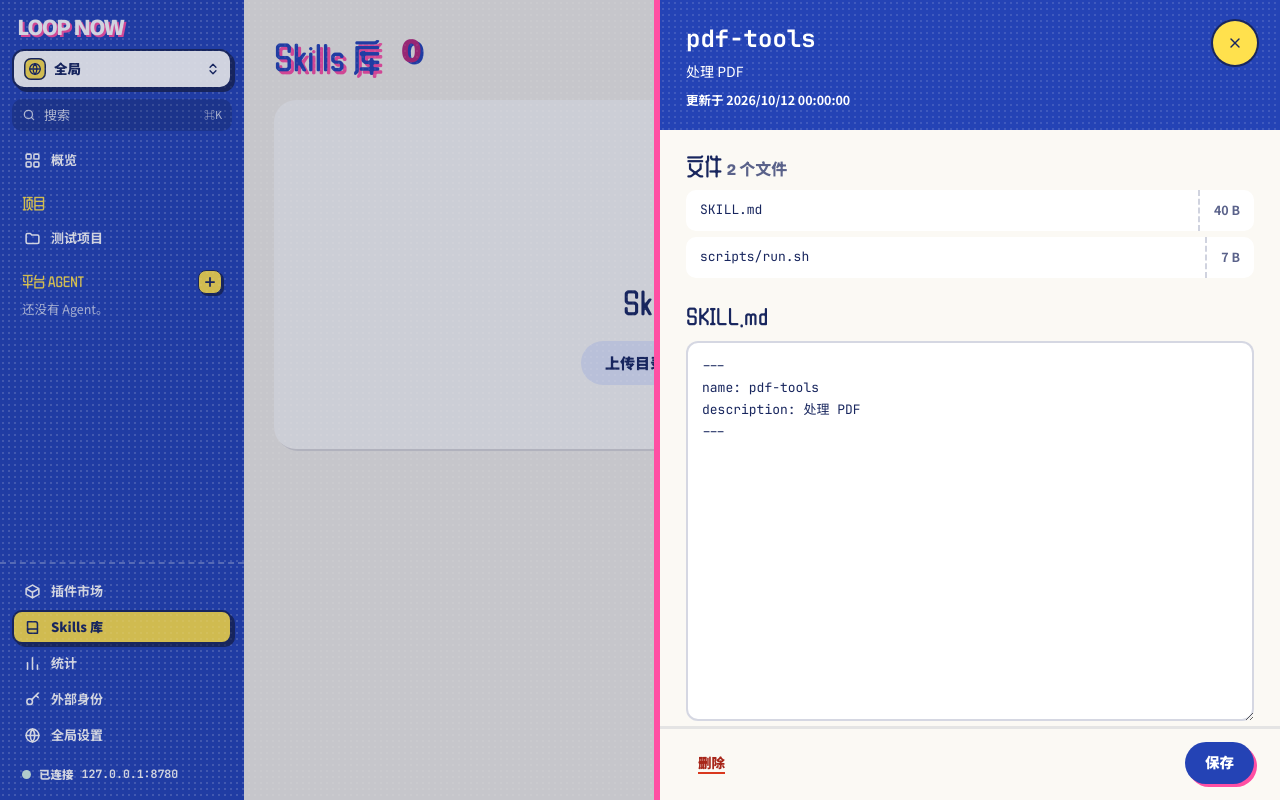
查看与编辑模板的 SKILL.md › 后台刷新失败时保留未保存的编辑，并显示原因
Type "还没保存" into the text box labelled "SKILL.md".
click(970, 531); type("还没保存")  # box [686,341,1254,721]
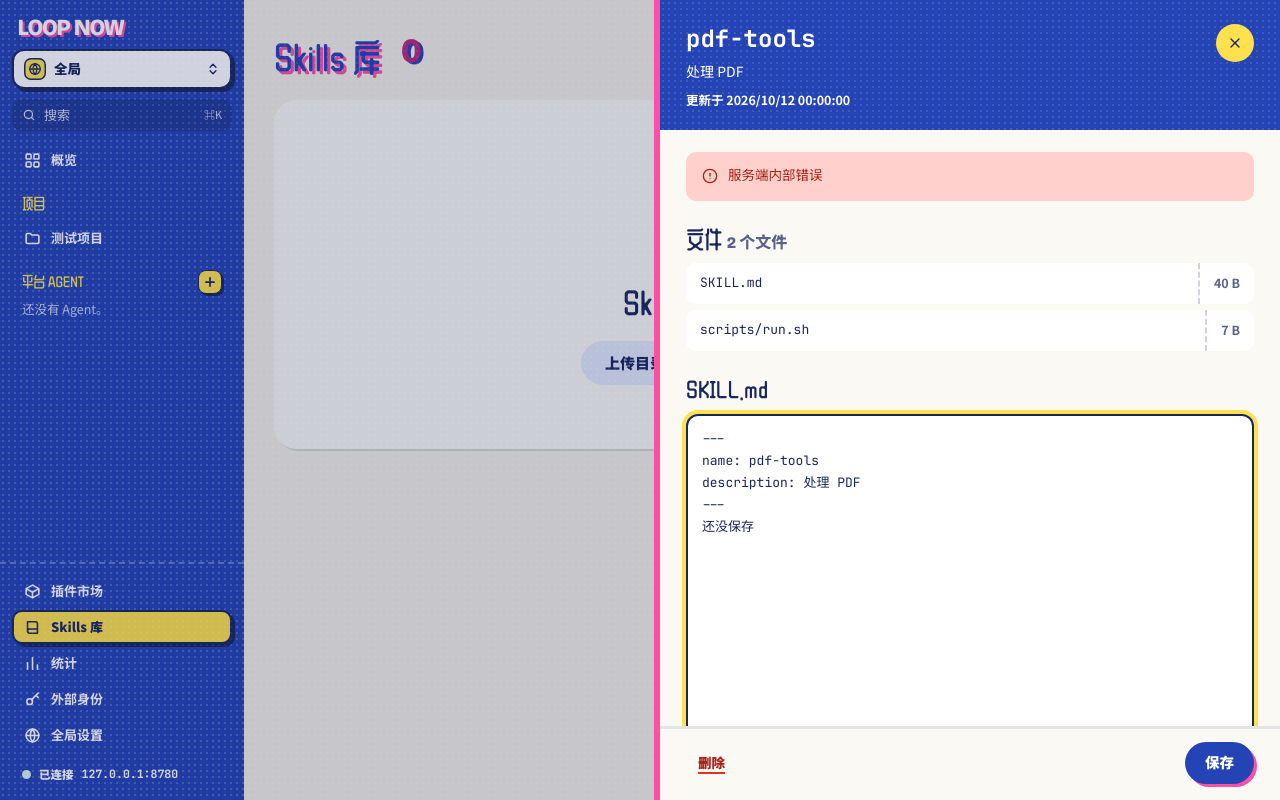
Check: the text "服务端内部错误" is shown, box [728,166,822,183]
